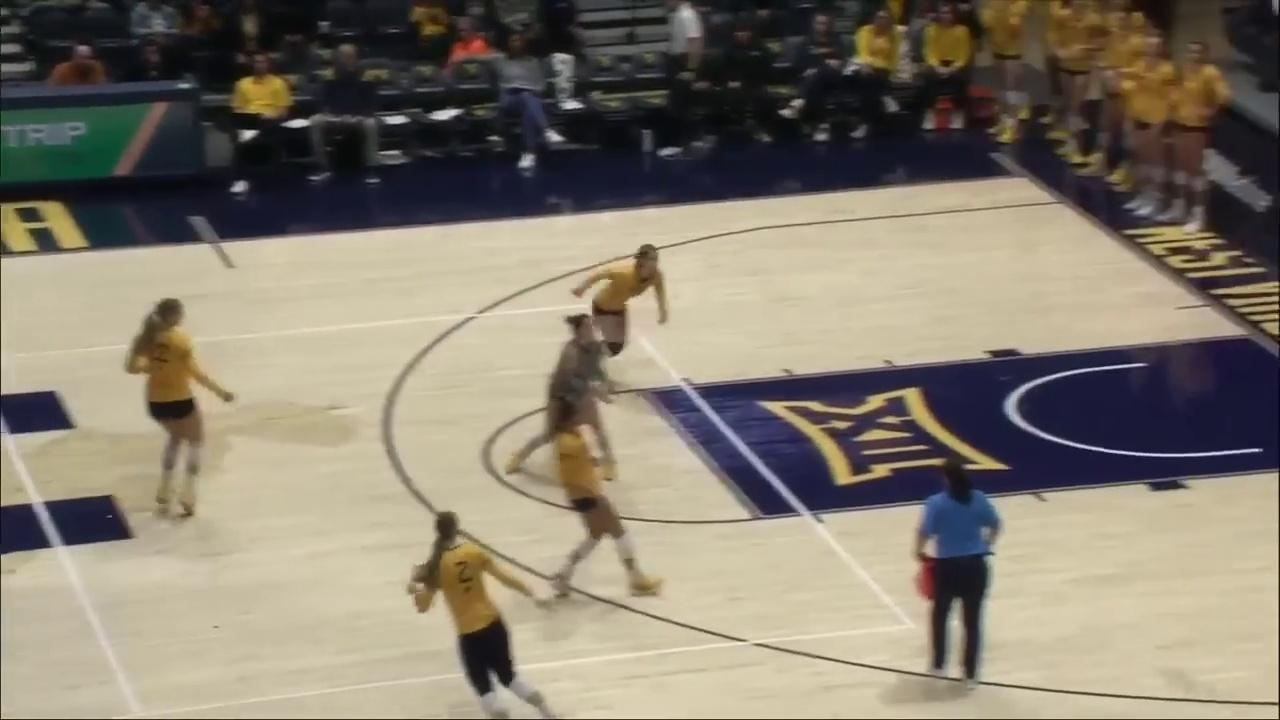player: (408, 513, 569, 720), (126, 298, 234, 517), (550, 401, 664, 597), (505, 313, 620, 479), (573, 245, 670, 392)
refree: (916, 457, 1001, 684)
